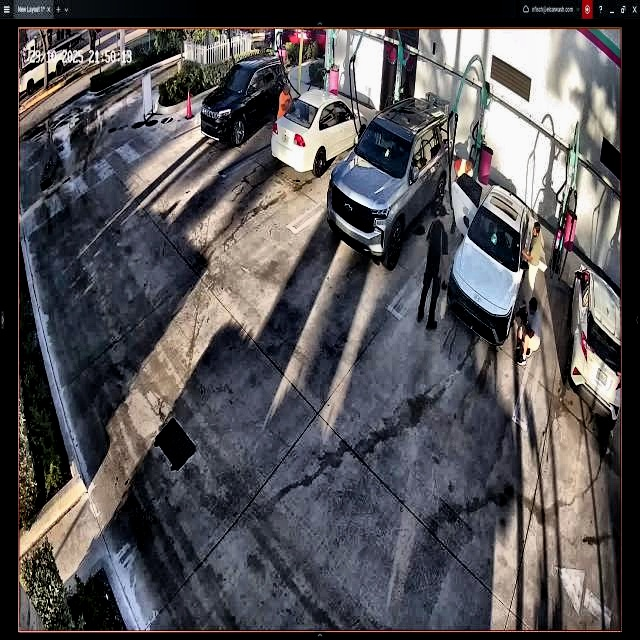Car: (329, 96, 452, 264), (450, 173, 531, 347), (272, 81, 366, 177), (198, 56, 285, 145)
